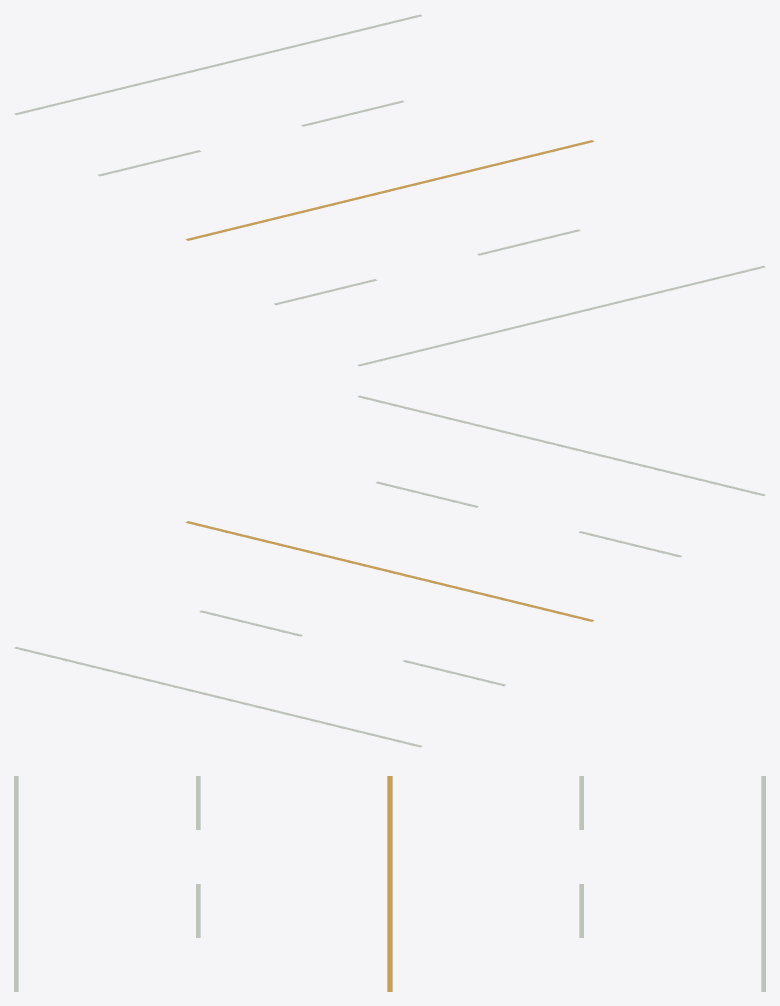
The model's file is RoadPlan_Marking_4L_L8.glb.
3 views of the same model, one above another, from view 1: azimuth 30°, elevation 25°; view 2: azimuth 150°, elevation 25°; view 3: azimuth 270°, elevation 25° (orthographic). The views are drawn at different scales.
Visible parts, largest first — view 1: RoadPlan_Marking_4L_L8_Center, RoadPlan_Marking_4L_L8_EdgeRight, RoadPlan_Marking_4L_L8_EdgeLeft; view 2: RoadPlan_Marking_4L_L8_Center, RoadPlan_Marking_4L_L8_EdgeRight, RoadPlan_Marking_4L_L8_EdgeLeft; view 3: RoadPlan_Marking_4L_L8_Center, RoadPlan_Marking_4L_L8_EdgeRight, RoadPlan_Marking_4L_L8_EdgeLeft, RoadPlan_Marking_4L_L8_LaneRight, RoadPlan_Marking_4L_L8_LaneLeft.
Part boxes in pixels (<box>): RoadPlan_Marking_4L_L8_Center: <box>185,140,594,240</box>; RoadPlan_Marking_4L_L8_EdgeRight: <box>358,265,765,366</box>; RoadPlan_Marking_4L_L8_EdgeLeft: <box>14,14,421,115</box>; RoadPlan_Marking_4L_L8_Center: <box>185,521,594,621</box>; RoadPlan_Marking_4L_L8_EdgeRight: <box>358,395,765,496</box>; RoadPlan_Marking_4L_L8_EdgeLeft: <box>14,646,421,747</box>; RoadPlan_Marking_4L_L8_Center: <box>387,776,392,991</box>; RoadPlan_Marking_4L_L8_EdgeRight: <box>14,776,18,991</box>; RoadPlan_Marking_4L_L8_EdgeLeft: <box>761,776,765,991</box>; RoadPlan_Marking_4L_L8_LaneRight: <box>196,776,200,937</box>; RoadPlan_Marking_4L_L8_LaneLeft: <box>579,776,583,937</box>.
Bounding box in the file's own units: 8 × 0.0007 × 11.77.
